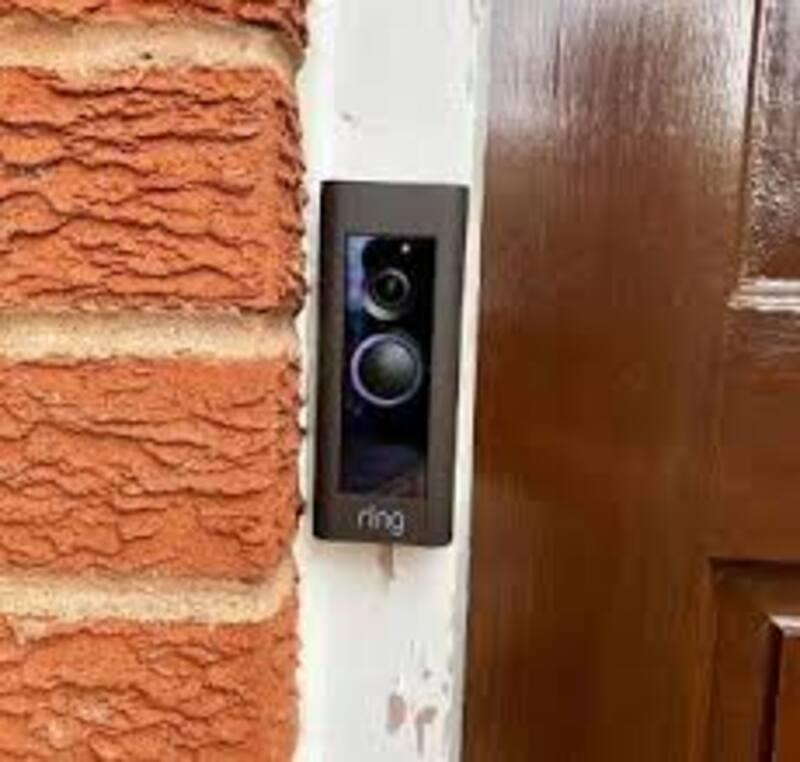doorbell: (304, 170, 474, 570)
